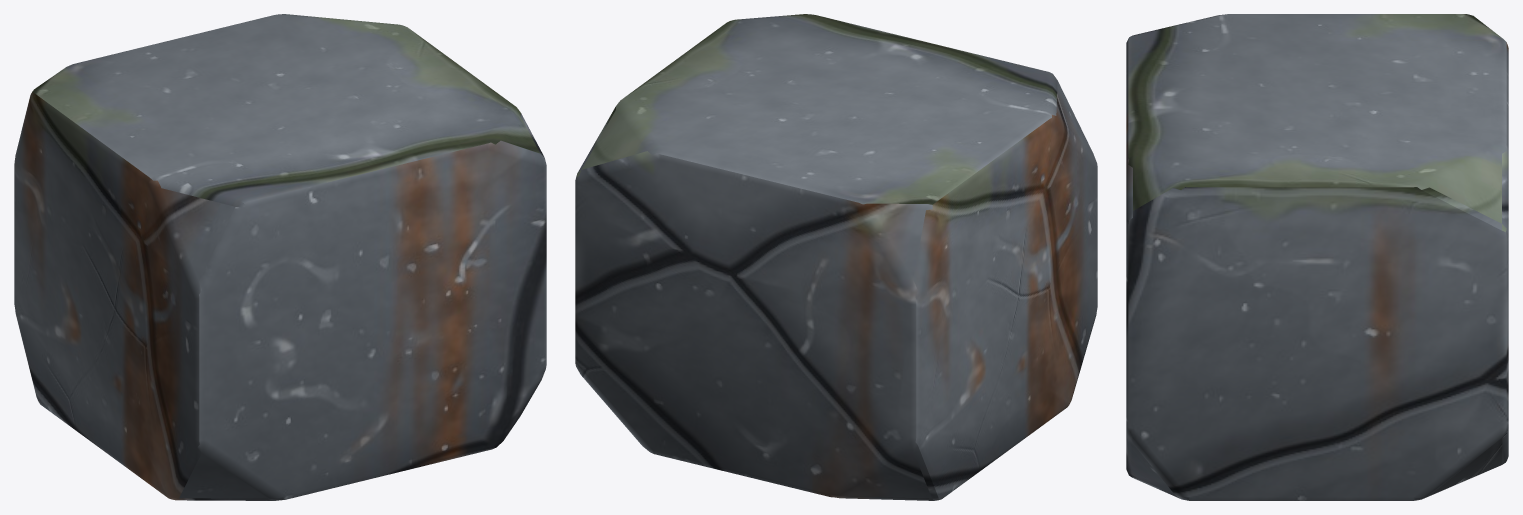
Rendered from rock_metal_small_a.glb.
3 views of the same model, side by side, from view 1: azimuth 30°, elevation 25°; view 2: azimuth 150°, elevation 25°; view 3: azimuth 270°, elevation 25° (orthographic). The views are drawn at different scales.
Visible parts, largest first — view 1: RockMetal_small_a; view 2: RockMetal_small_a; view 3: RockMetal_small_a.
Boxes of the visible parts, box(x1,y1,x2,y2) form: RockMetal_small_a: box(14, 14, 546, 500); RockMetal_small_a: box(575, 14, 1097, 500); RockMetal_small_a: box(1126, 14, 1508, 500).
Bounding box in the file's own units: 0.65 × 0.55 × 0.6.
Materials: 1 (1 with a texture image).
